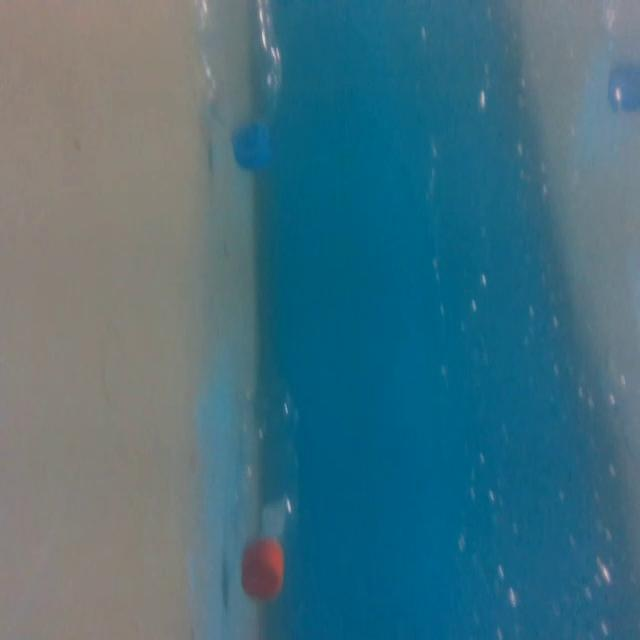plastic bottle: (181, 1, 296, 179), (233, 370, 306, 607)
